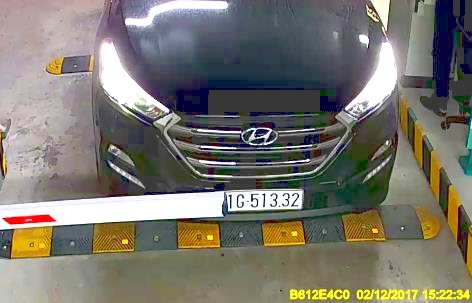plate: (228, 189, 302, 211)
